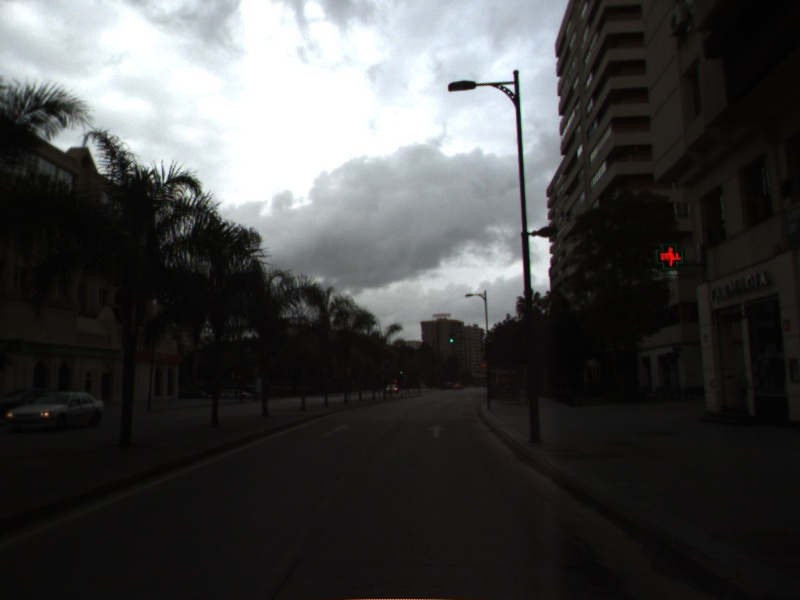STRAIGHT: (319, 422, 352, 440), (425, 422, 448, 440)
